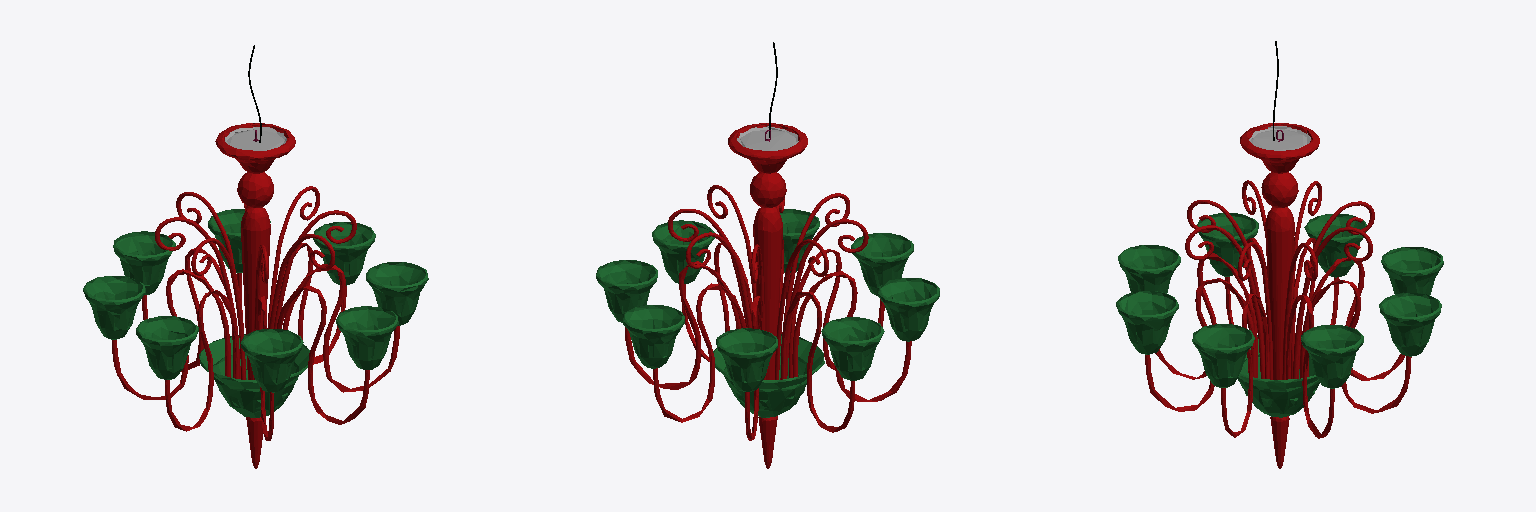
The model's file is chandelier.obj.
3 views of the same model, side by side, from view 1: azimuth 30°, elevation 25°; view 2: azimuth 150°, elevation 25°; view 3: azimuth 270°, elevation 25° (orthographic).
Parts seen in each view (by area): view 1: Cups.001_Circle.001, Round_Shapes_-_BOTTOM.001_Cylinder.001, Round_Shapes_-_TOP.001_Cylinder.002, Central_shape.001_Mesh.000, Cup_-_BOTTOM.001_Circle.000, Top.001_Circle.003; view 2: Cups.001_Circle.001, Round_Shapes_-_BOTTOM.001_Cylinder.001, Central_shape.001_Mesh.000, Round_Shapes_-_TOP.001_Cylinder.002, Cup_-_BOTTOM.001_Circle.000, Top.001_Circle.003; view 3: Cups.001_Circle.001, Round_Shapes_-_BOTTOM.001_Cylinder.001, Central_shape.001_Mesh.000, Round_Shapes_-_TOP.001_Cylinder.002, Cup_-_BOTTOM.001_Circle.000, Top.001_Circle.003.
Boxes of the visible parts, <box> form: Cups.001_Circle.001: <box>83,209,428,392</box>; Round_Shapes_-_BOTTOM.001_Cylinder.001: <box>112,242,399,440</box>; Round_Shapes_-_TOP.001_Cylinder.002: <box>155,186,356,379</box>; Central_shape.001_Mesh.000: <box>215,123,295,468</box>; Cup_-_BOTTOM.001_Circle.000: <box>199,334,309,417</box>; Top.001_Circle.003: <box>225,127,286,150</box>; Cups.001_Circle.001: <box>596,209,939,391</box>; Round_Shapes_-_BOTTOM.001_Cylinder.001: <box>625,239,911,440</box>; Central_shape.001_Mesh.000: <box>728,123,807,468</box>; Round_Shapes_-_TOP.001_Cylinder.002: <box>668,180,868,379</box>; Cup_-_BOTTOM.001_Circle.000: <box>713,334,824,417</box>; Top.001_Circle.003: <box>737,126,798,150</box>; Cups.001_Circle.001: <box>1116,213,1443,388</box>; Round_Shapes_-_BOTTOM.001_Cylinder.001: <box>1145,238,1411,438</box>; Central_shape.001_Mesh.000: <box>1240,123,1319,468</box>; Round_Shapes_-_TOP.001_Cylinder.002: <box>1185,180,1374,379</box>; Cup_-_BOTTOM.001_Circle.000: <box>1237,335,1319,417</box>; Top.001_Circle.003: <box>1249,126,1310,150</box>.
Size of the model in its own units: 4.77 by 6.85 by 4.77.